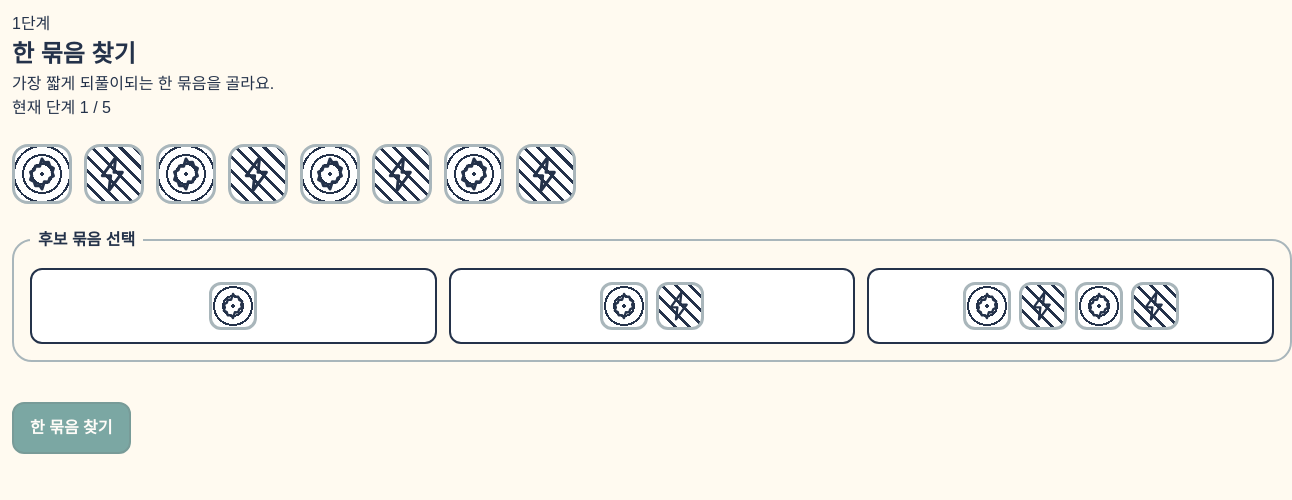
Test: FindUnitScreen › 선택 전 제출을 막고 후보를 한국어 이름과 칸 수로 읽는다
Expected: the number of messages is 1, [12,99,111,116]
Expected: the message reads "현재 단계 1 / 5", [12,99,111,116]
Click the button named "후보 2:" at (624, 306), box [449,268,855,344]
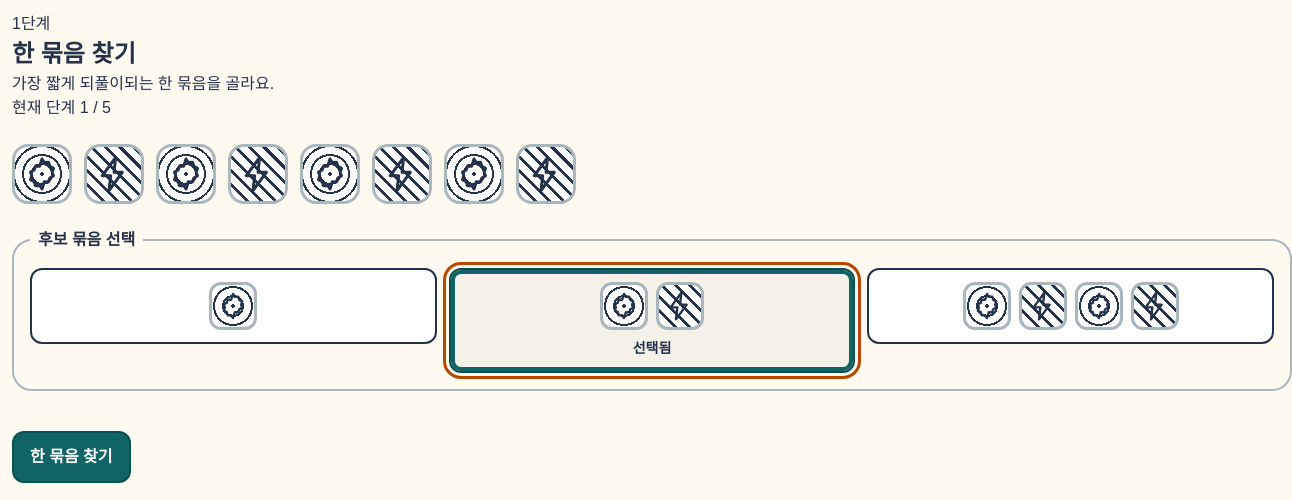
Expected: the number of buttons named "후보" is 3, [30,268,437,344]; [449,268,855,373]; [867,268,1274,344]
Now the button "한 묶음 찾기" is enabled, box [12,431,130,483]
